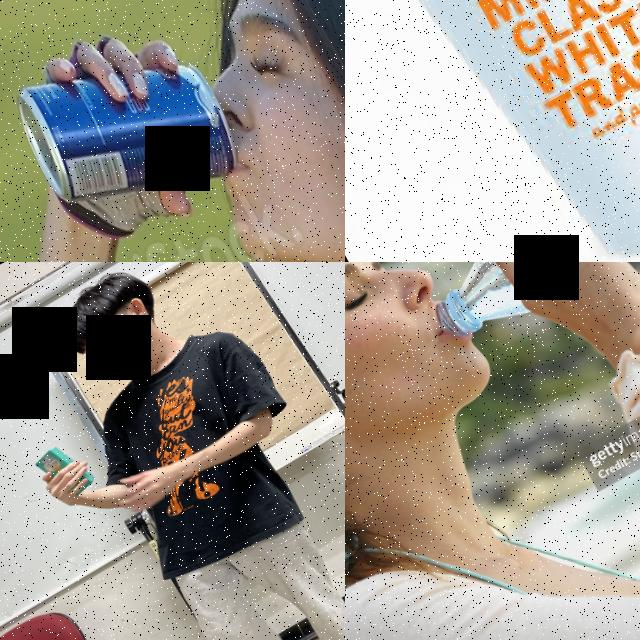bottle: (402, 262, 640, 357)
can: (0, 0, 260, 262)
cup: (345, 0, 640, 262)
